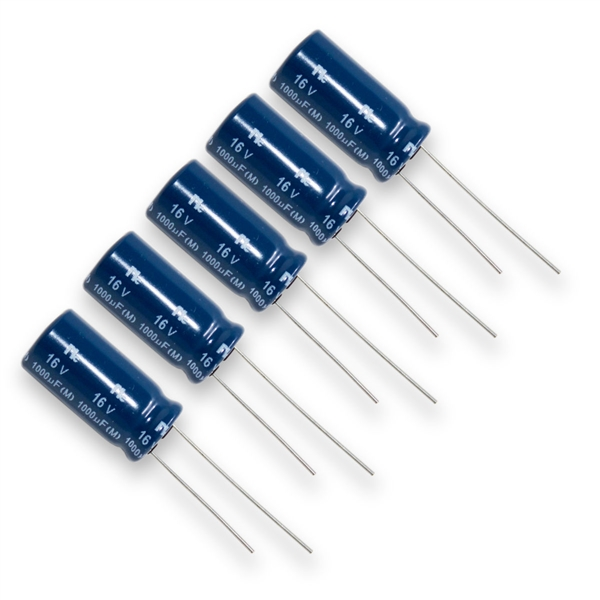capacitor: (247, 14, 496, 217), (115, 143, 335, 337), (13, 286, 195, 517), (180, 75, 392, 273), (62, 198, 262, 407)
